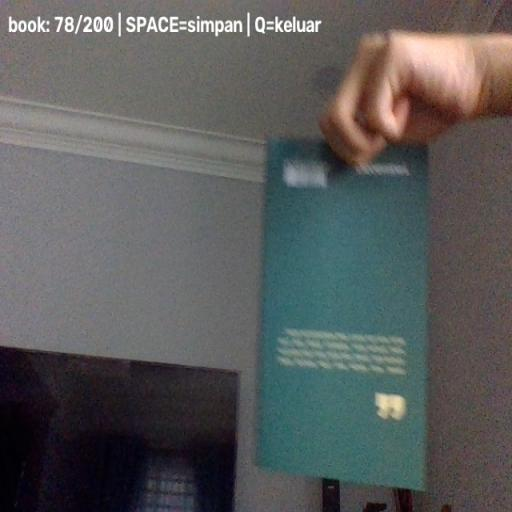Book: (254, 133, 432, 491)
